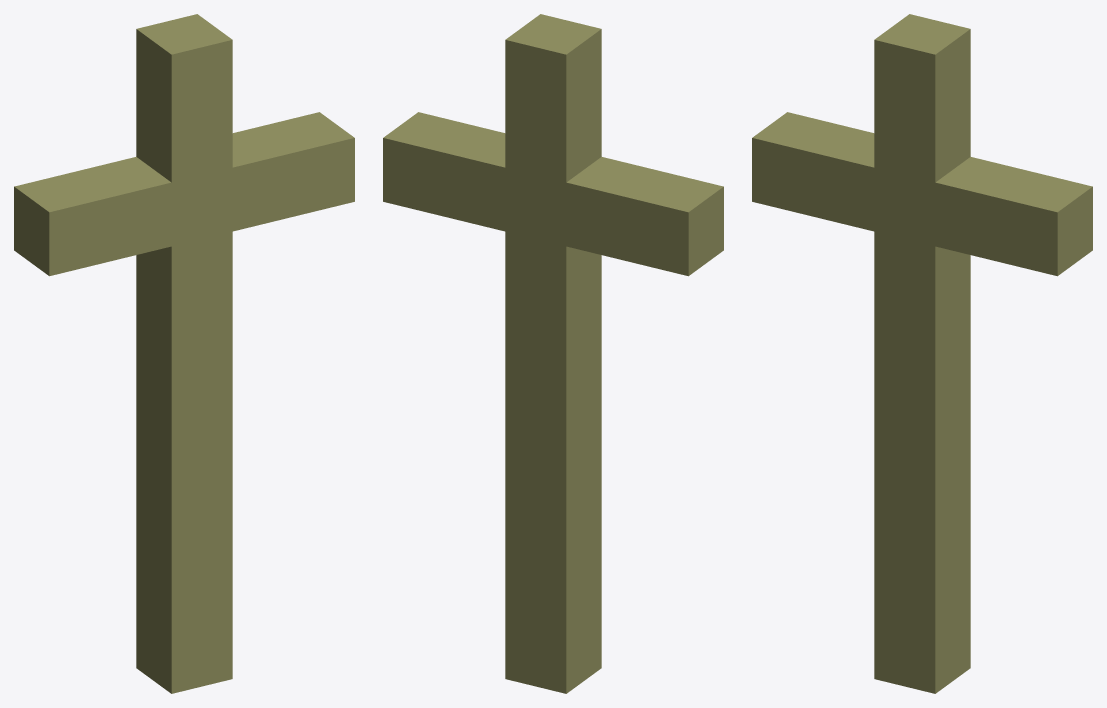
Rendered from obj_cross.fbx.
3 views of the same model, side by side, from view 1: azimuth 30°, elevation 25°; view 2: azimuth 150°, elevation 25°; view 3: azimuth 330°, elevation 25° (orthographic).
Parts seen in each view (by area): view 1: obj_cross; view 2: obj_cross; view 3: obj_cross.
Part boxes in pixels (x1,y1,x2,y2): obj_cross: (14, 14, 354, 693); obj_cross: (383, 14, 723, 693); obj_cross: (752, 14, 1092, 693).
Bounding box in the file's own units: 1 × 0.2 × 2.
1 material, 1 textured.
